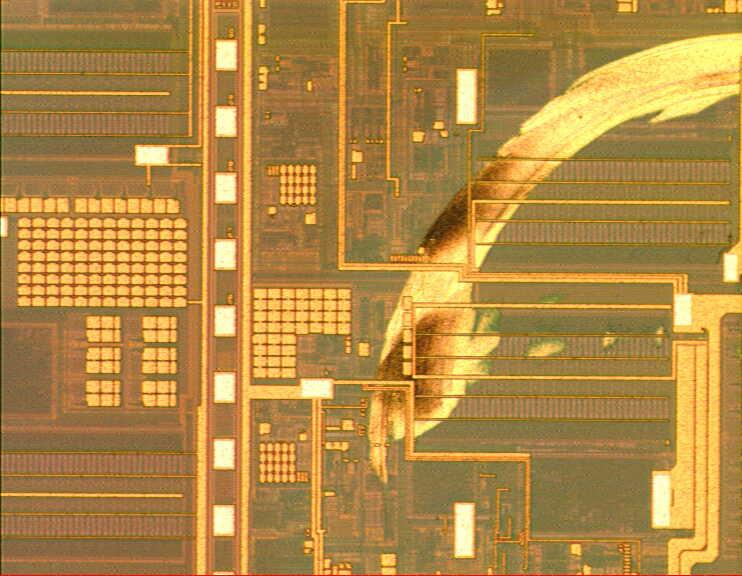BLOCK ETCH: (361, 26, 742, 496)
